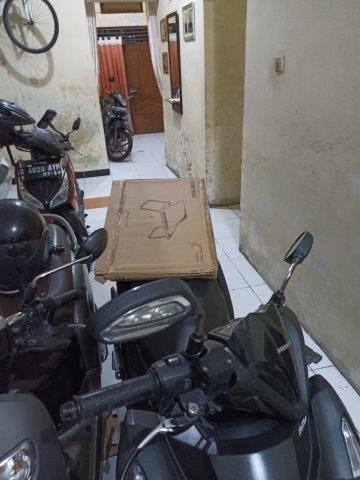kardus: (95, 179, 218, 281)
